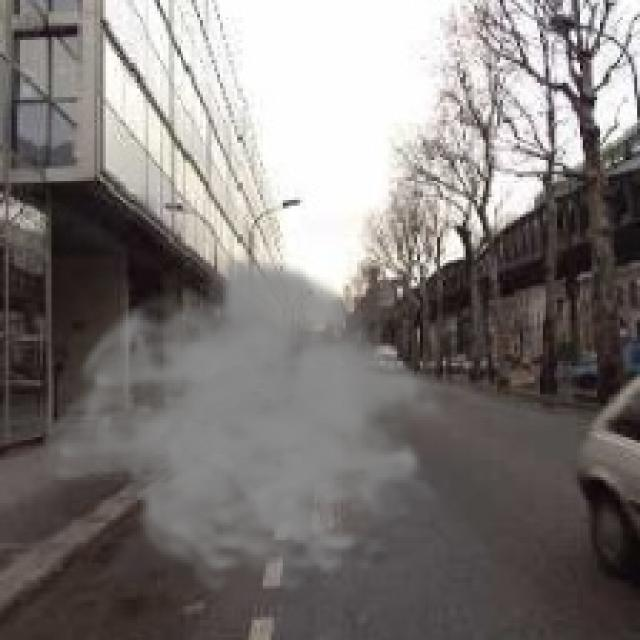Smoke: (37, 252, 463, 594)
